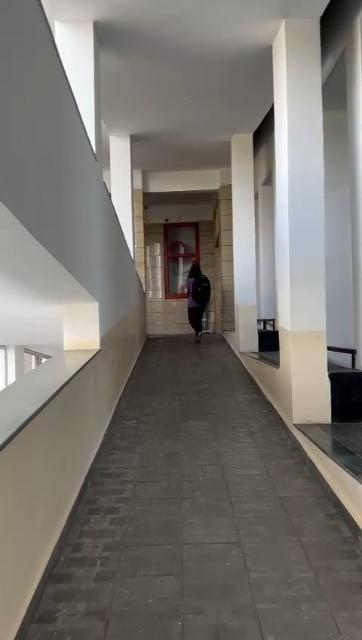floor: (25, 341, 359, 640)
moving-obj: (178, 268, 224, 346)
wall: (0, 300, 147, 640), (0, 5, 102, 304), (274, 29, 326, 411), (108, 140, 144, 354), (230, 134, 258, 356)
